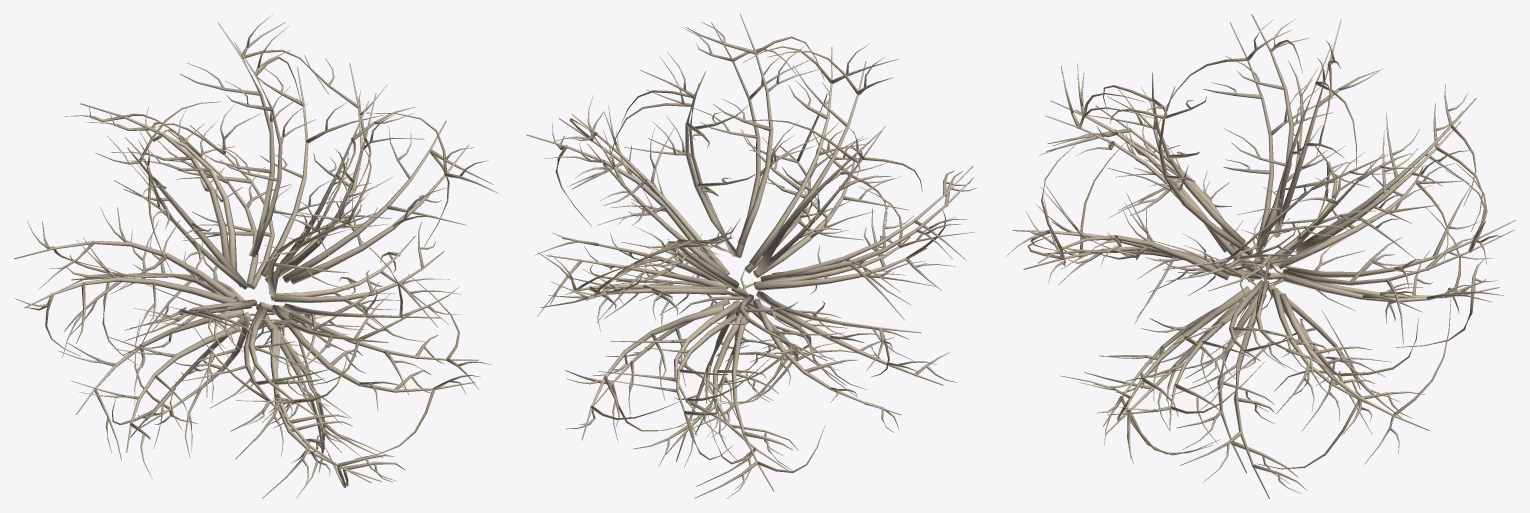
The model's file is tumbleweed-skeletons.glb.
The picture shows the model from 3 angles, left to right: view 1: azimuth 30°, elevation 25°; view 2: azimuth 150°, elevation 25°; view 3: azimuth 270°, elevation 25°; orthographic projection. The views are drawn at different scales.
Visible parts, largest first — view 1: Perdition dry tumbleweed, Duel dry tumbleweed; view 2: Duel dry tumbleweed, Perdition dry tumbleweed; view 3: Perdition dry tumbleweed, Duel dry tumbleweed.
Part boxes in pixels (bbox=[...]): Perdition dry tumbleweed: bbox=[14, 25, 493, 497]; Duel dry tumbleweed: bbox=[14, 14, 497, 498]; Duel dry tumbleweed: bbox=[537, 22, 977, 498]; Perdition dry tumbleweed: bbox=[526, 14, 974, 490]; Perdition dry tumbleweed: bbox=[1006, 14, 1515, 483]; Duel dry tumbleweed: bbox=[1038, 19, 1514, 498].
Bounding box in the file's own units: 0.6791 × 0.6895 × 0.7086.
